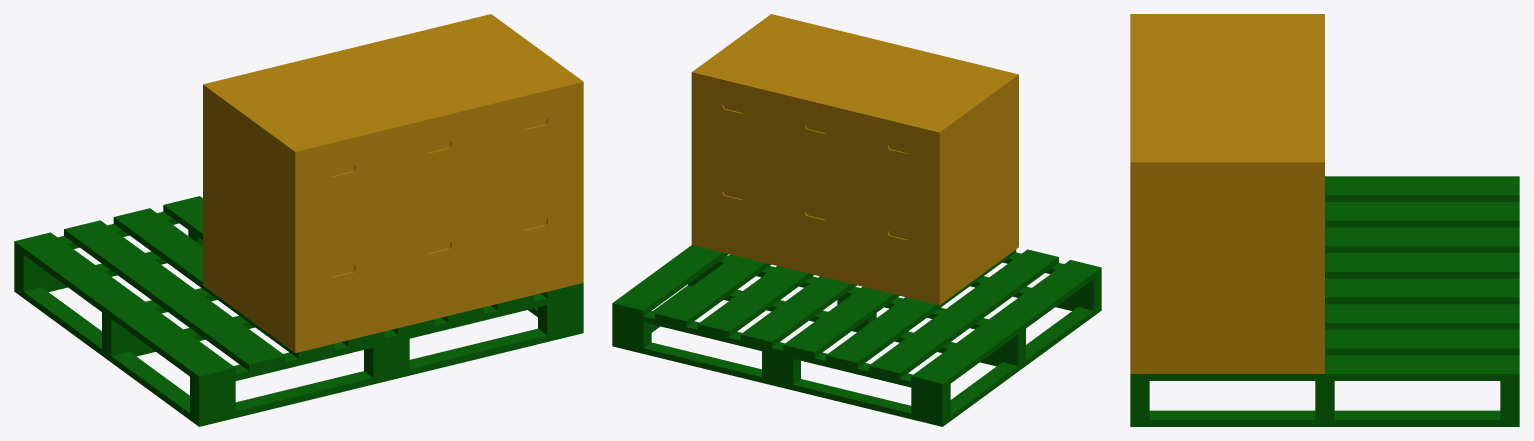
Rendered from SmallPallet.obj.
3 renders of one model, left to right at view 1: azimuth 30°, elevation 25°; view 2: azimuth 150°, elevation 25°; view 3: azimuth 270°, elevation 25°, orthographic. The views are drawn at different scales.
Parts seen in each view (by area): view 1: Mesh2 ___4_2 Model, Mesh4 ___4_4 Model, Mesh1 ___4_1 Model, Mesh5 ___4_5 Model, Mesh3 ___4_3 Model, Mesh6 ___4_6 Model, Mesh15 Group9 ___3_1 Model, Mesh14 Group8 ___3_1 Model, Mesh12 Group6 ___3_1 Model, Mesh24 Group18 ___3_1 Model, Mesh10 Group4 ___3_1 Model, Mesh13 Group7 ___3_1 Model (+6 smaller); view 2: Mesh2 ___4_2 Model, Mesh4 ___4_4 Model, Mesh5 ___4_5 Model, Mesh1 ___4_1 Model, Mesh3 ___4_3 Model, Mesh6 ___4_6 Model, Mesh15 Group9 ___3_1 Model, Mesh14 Group8 ___3_1 Model, Mesh23 Group17 ___3_1 Model, Mesh10 Group4 ___3_1 Model, Mesh17 Group11 ___3_1 Model, Mesh9 Group3 ___3_1 Model (+12 smaller); view 3: Mesh5 ___4_5 Model, Mesh3 ___4_3 Model, Mesh1 ___4_1 Model, Mesh2 ___4_2 Model, Mesh8 Group2 ___3_1 Model, Mesh29 Group23 ___3_1 Model, Mesh7 Group1 ___3_1 Model, Mesh9 Group3 ___3_1 Model, Mesh10 Group4 ___3_1 Model, Mesh14 Group8 ___3_1 Model, Mesh15 Group9 ___3_1 Model, Mesh16 Group10 ___3_1 Model (+4 smaller).
Part boxes in pixels (x1,y1,x2,y2): Mesh2 ___4_2 Model: (203, 61, 391, 252); Mesh4 ___4_4 Model: (203, 185, 391, 352); Mesh1 ___4_1 Model: (299, 37, 487, 228); Mesh5 ___4_5 Model: (395, 14, 583, 205); Mesh3 ___4_3 Model: (487, 182, 583, 305); Mesh6 ___4_6 Model: (391, 206, 487, 329); Mesh15 Group9 ___3_1 Model: (14, 232, 235, 383); Mesh14 Group8 ___3_1 Model: (64, 220, 285, 370); Mesh12 Group6 ___3_1 Model: (217, 328, 565, 422); Mesh24 Group18 ___3_1 Model: (14, 285, 217, 426); Mesh10 Group4 ___3_1 Model: (113, 208, 334, 358); Mesh13 Group7 ___3_1 Model: (190, 289, 583, 389); Mesh2 ___4_2 Model: (857, 54, 1018, 218); Mesh4 ___4_4 Model: (857, 161, 1018, 305); Mesh5 ___4_5 Model: (691, 14, 853, 178); Mesh1 ___4_1 Model: (774, 34, 935, 198); Mesh3 ___4_3 Model: (691, 158, 774, 264); Mesh6 ___4_6 Model: (774, 179, 856, 285); Mesh15 Group9 ___3_1 Model: (911, 260, 1101, 389); Mesh14 Group8 ___3_1 Model: (868, 249, 1058, 378); Mesh23 Group17 ___3_1 Model: (628, 342, 926, 422); Mesh10 Group4 ___3_1 Model: (826, 249, 1016, 368); Mesh17 Group11 ___3_1 Model: (697, 266, 813, 337); Mesh9 Group3 ___3_1 Model: (740, 276, 856, 347); Mesh5 ___4_5 Model: (1130, 112, 1324, 267); Mesh3 ___4_3 Model: (1130, 268, 1324, 373); Mesh1 ___4_1 Model: (1130, 63, 1324, 112); Mesh2 ___4_2 Model: (1130, 14, 1324, 63); Mesh8 Group2 ___3_1 Model: (1130, 355, 1519, 380); Mesh29 Group23 ___3_1 Model: (1130, 410, 1519, 426); Mesh7 Group1 ___3_1 Model: (1325, 329, 1519, 355); Mesh9 Group3 ___3_1 Model: (1325, 278, 1519, 304); Mesh10 Group4 ___3_1 Model: (1325, 227, 1519, 252); Mesh14 Group8 ___3_1 Model: (1325, 202, 1519, 227); Mesh15 Group9 ___3_1 Model: (1325, 176, 1519, 201); Mesh16 Group10 ___3_1 Model: (1325, 253, 1519, 278).
Size of the model in its own units: 1200 by 750 by 1000.
